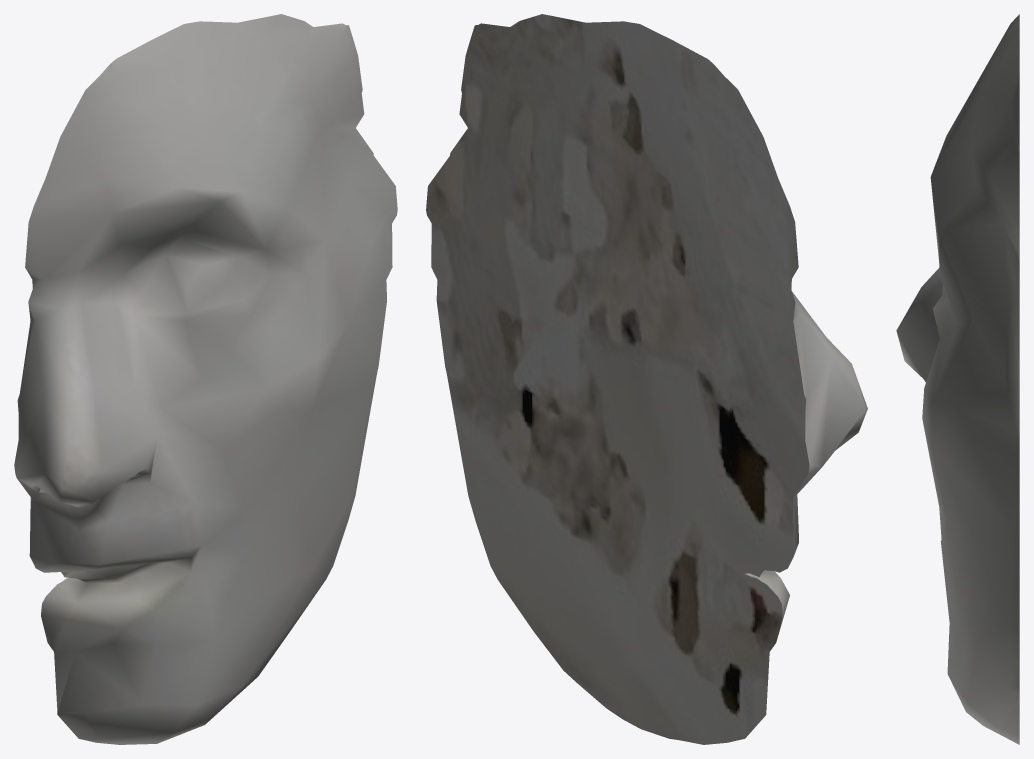
Rendered from sophie_arnould_als_iphigenie_1.glb.
The picture shows the model from 3 angles, left to right: view 1: azimuth 30°, elevation 25°; view 2: azimuth 150°, elevation 25°; view 3: azimuth 270°, elevation 25°; orthographic projection.
Visible parts, largest first — view 1: Mesh_0.012; view 2: Mesh_0.012; view 3: Mesh_0.012.
Boxes of the visible parts, x1,y1,x2,y2 form: Mesh_0.012: (14, 14, 397, 744); Mesh_0.012: (426, 14, 867, 744); Mesh_0.012: (896, 14, 1019, 744).
Bounding box in the file's own units: 0.0992 × 0.1694 × 0.0265.
Materials: 1 (1 with a texture image).
